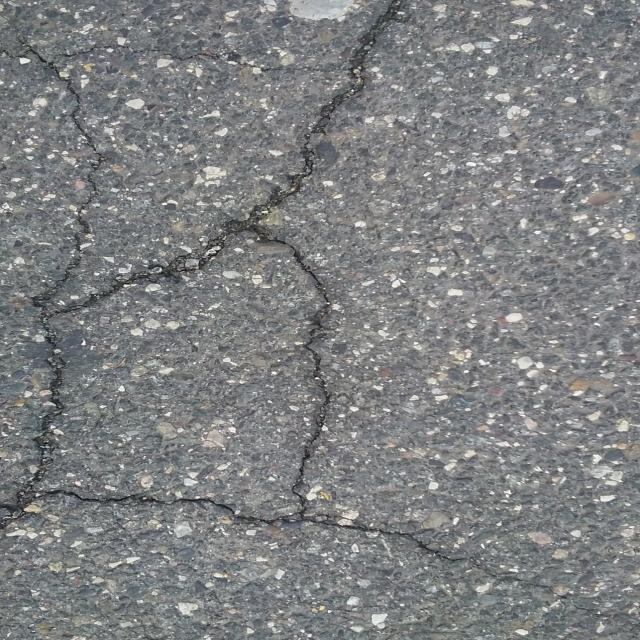Crack: (0, 0, 616, 621), (0, 44, 345, 312), (41, 230, 323, 516)
